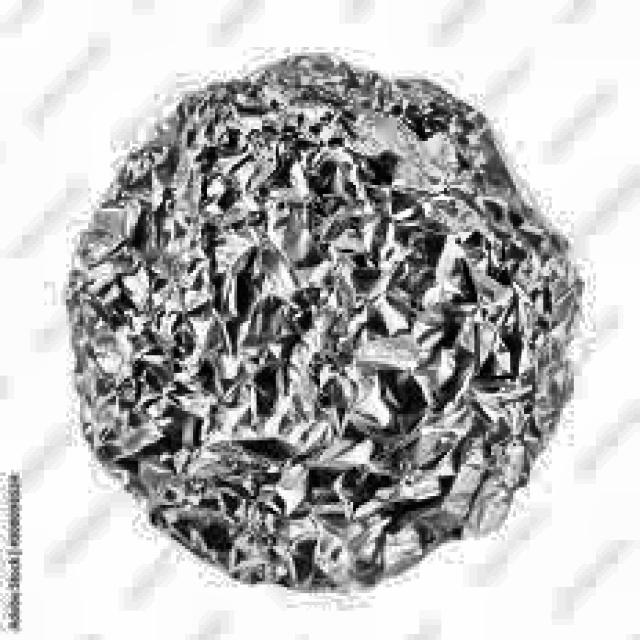Foil: (61, 39, 593, 600)
